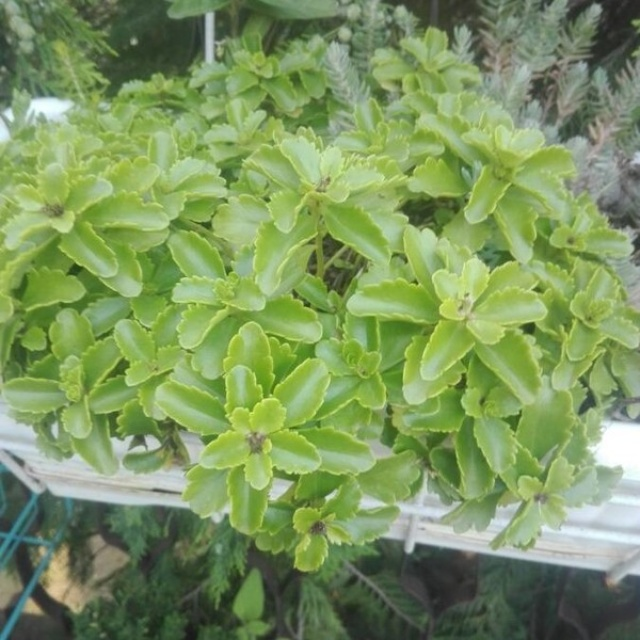obstacle: (43, 92, 534, 546)
